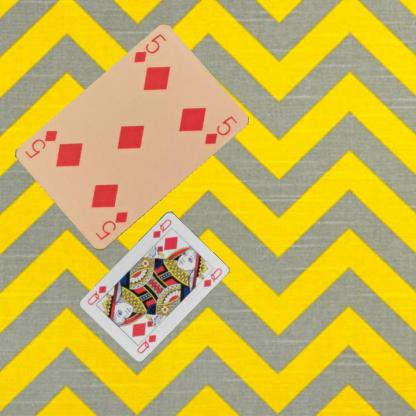5d: (130, 31, 168, 65), (92, 209, 129, 242)
Qd: (134, 327, 158, 355), (150, 216, 173, 239)
